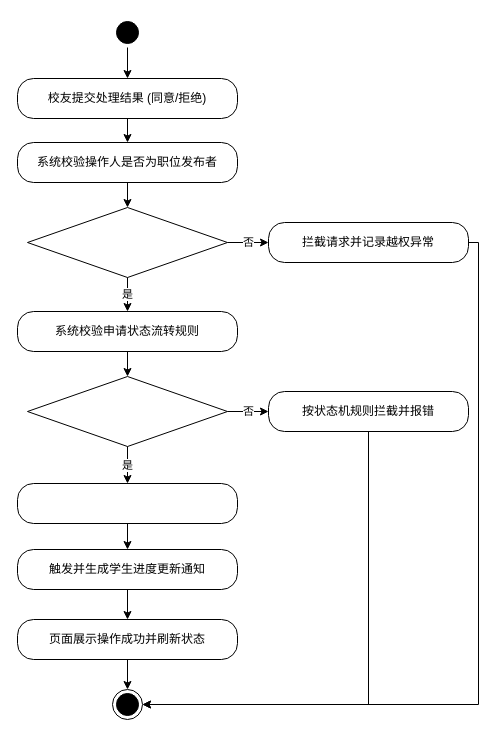
The diagram is 504 pixels wide and 737 high, and some of its shapes have lost their labels. The shapes that lost their labels are listed below. From the top down, each one's box as (x1, y1, x2, y2) in pixels, then its label:
(26, 206, 228, 278): 操作权限合法
(26, 376, 228, 446): 状态流转合规
(16, 482, 238, 524): 更新申请记录为相应终态
